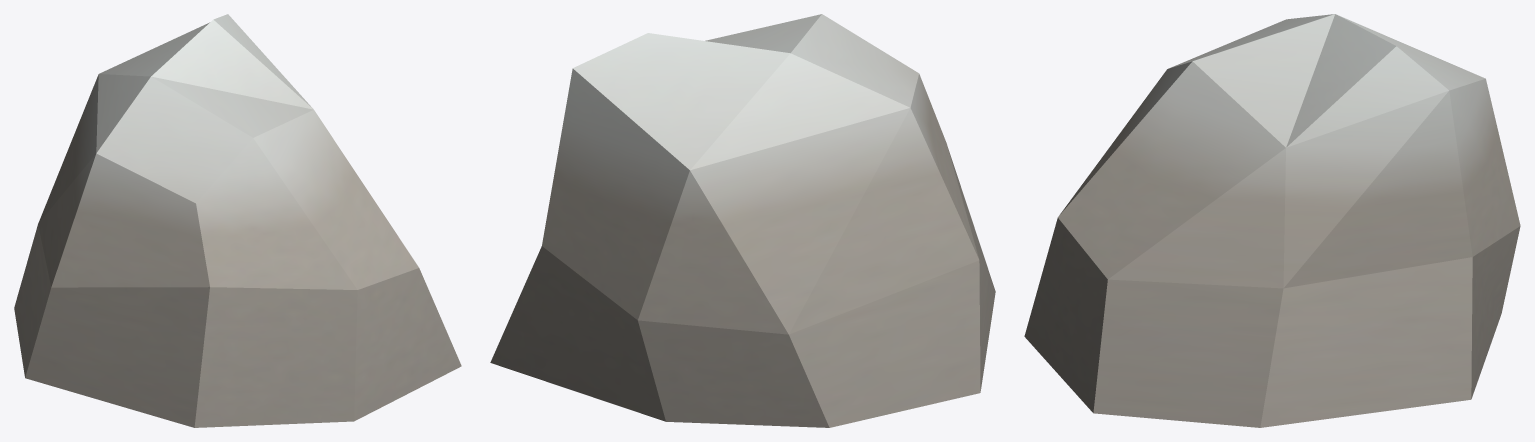
File: Rock_B_Snow.obj
The picture shows the model from 3 angles, left to right: view 1: azimuth 30°, elevation 25°; view 2: azimuth 150°, elevation 25°; view 3: azimuth 270°, elevation 25°; orthographic projection. The views are drawn at different scales.
Visible parts, largest first — view 1: Rock_B_Snow; view 2: Rock_B_Snow; view 3: Rock_B_Snow.
Part boxes in pixels (box(x1,y1,x2,y2)): Rock_B_Snow: box(14, 14, 461, 427); Rock_B_Snow: box(490, 14, 995, 427); Rock_B_Snow: box(1024, 14, 1520, 427).
Bounding box in the file's own units: 0.8486 × 0.5994 × 0.8806.
